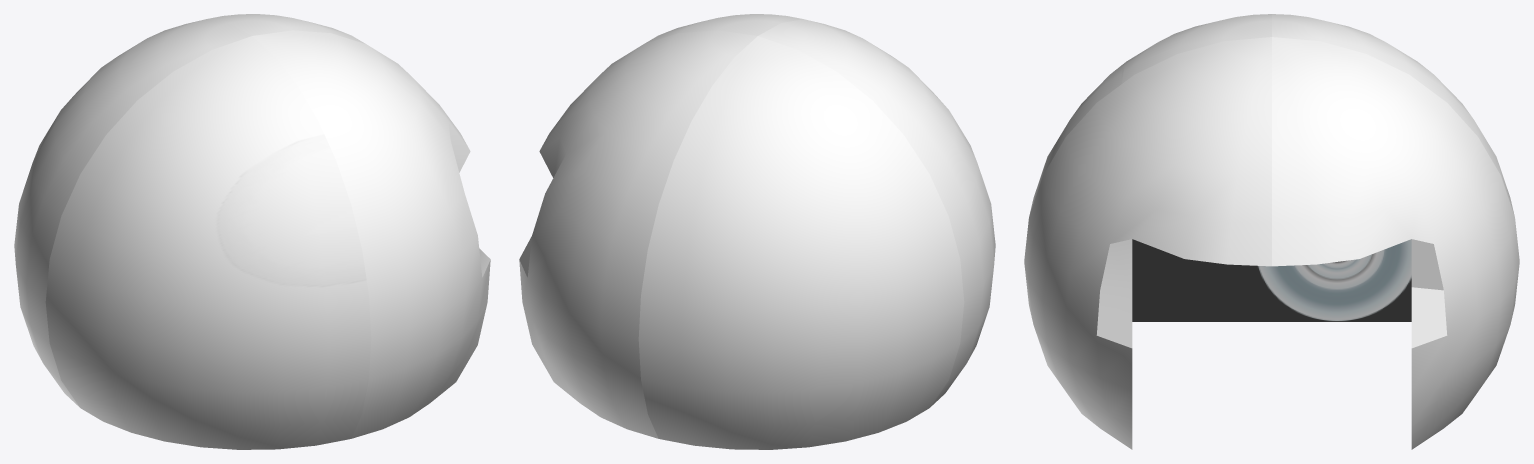
The model's file is draconic_helmet.obj.
The picture shows the model from 3 angles, left to right: view 1: azimuth 30°, elevation 25°; view 2: azimuth 150°, elevation 25°; view 3: azimuth 270°, elevation 25°; orthographic projection. The views are drawn at different scales.
Visible parts, largest first — view 1: draconic_helmet.001_draconic_helmet.006; view 2: draconic_helmet.001_draconic_helmet.006; view 3: draconic_helmet.001_draconic_helmet.006.
Boxes of the visible parts, x1=… form: draconic_helmet.001_draconic_helmet.006: x1=14, y1=14, x2=490, y2=449; draconic_helmet.001_draconic_helmet.006: x1=519, y1=14, x2=995, y2=449; draconic_helmet.001_draconic_helmet.006: x1=1024, y1=14, x2=1519, y2=449.
Bounding box in the file's own units: 10.25 × 8.14 × 10.65.
